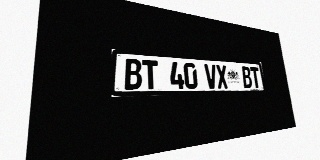0: (183, 62, 198, 89)
4: (169, 61, 185, 89)
B: (124, 58, 142, 90), (241, 66, 253, 88)
T: (142, 60, 159, 89), (250, 67, 261, 88)
V: (204, 64, 218, 89)
X: (215, 65, 228, 88)
